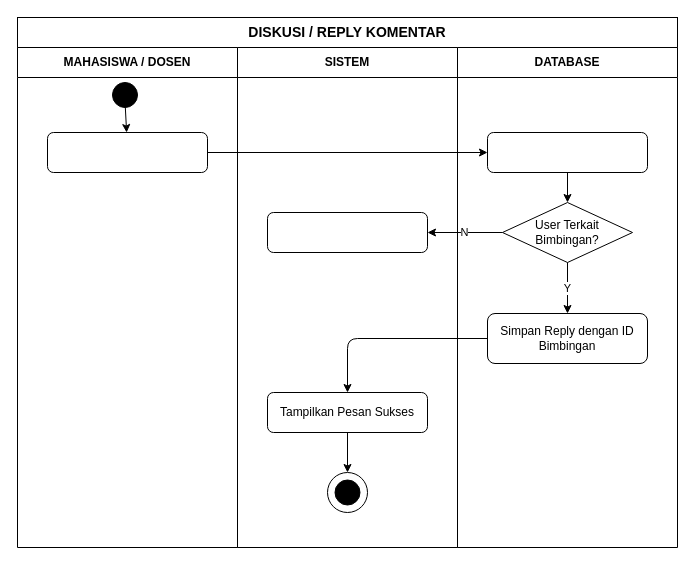
The diagram is 695 pixels wide and 565 high, and some of its shapes have lost their labels. The shapes that lost their labels are listed below. From the top down, each one's centre as x and y in pixels, then its label:
At pixel 127 152: "Mengetik Pesan Balasan".
At pixel 567 152: "Cari Data Bimbingan".
At pixel 347 232: "Tampilkan Pesan Error".
